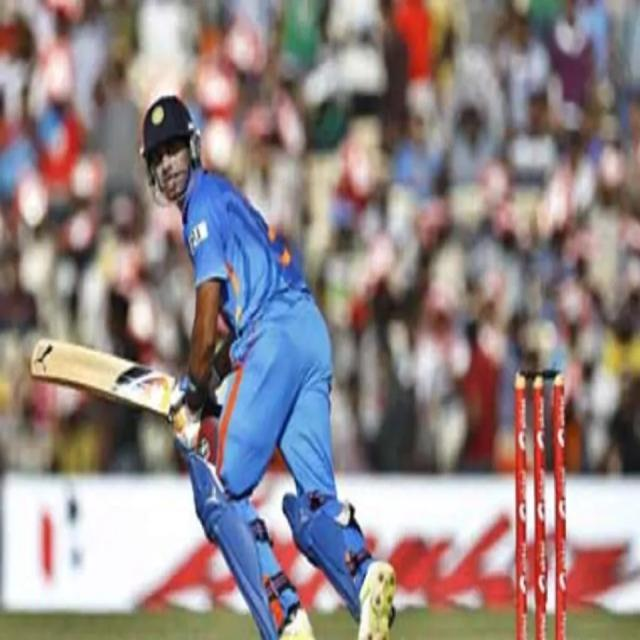stump: (513, 371, 568, 640)
